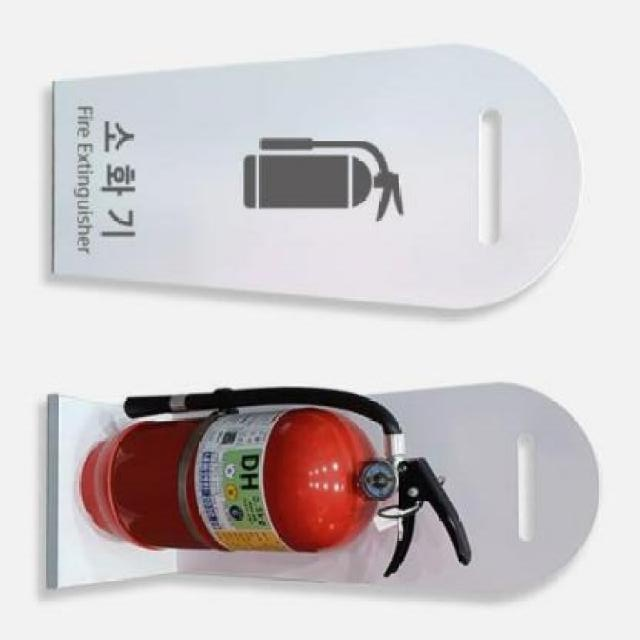fire extinguisher: (81, 386, 474, 580)
